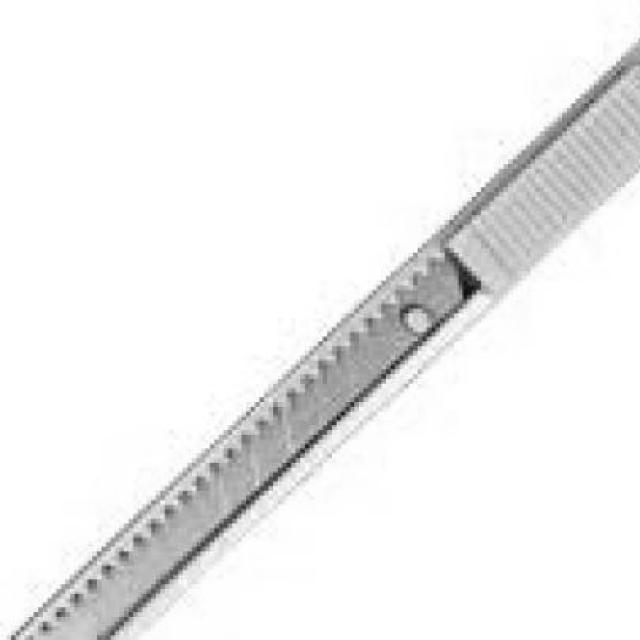estilete: (6, 38, 640, 640)
